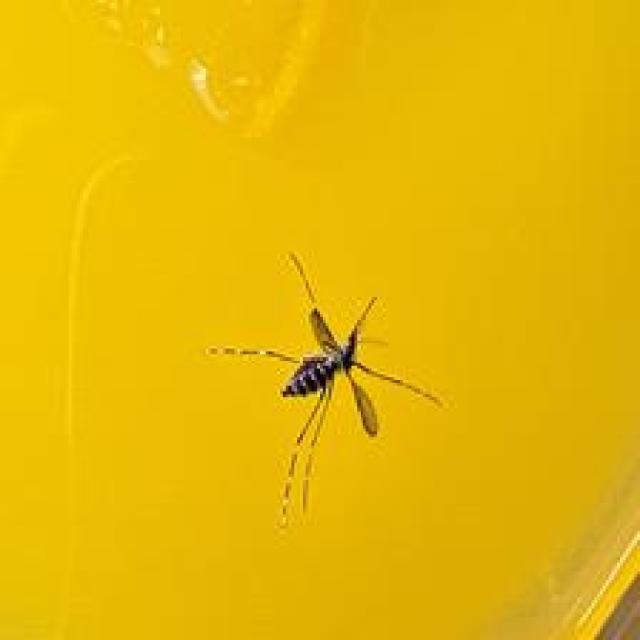Aedes albopictus: (205, 248, 444, 528)
